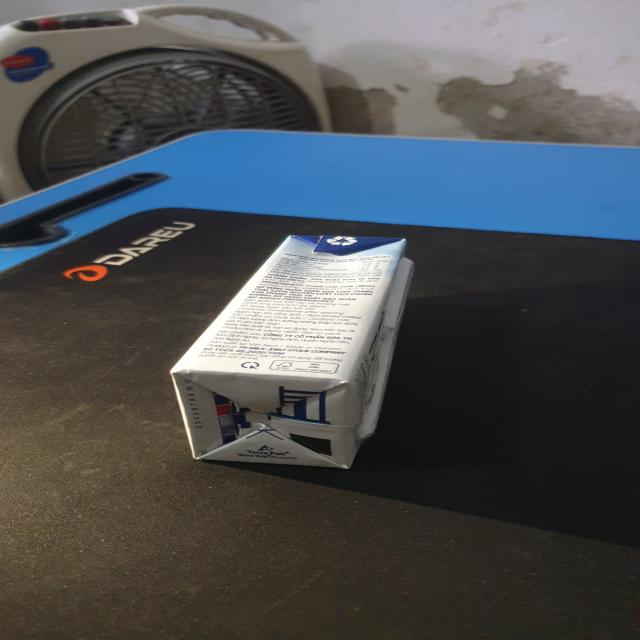TH: (165, 228, 424, 476)
